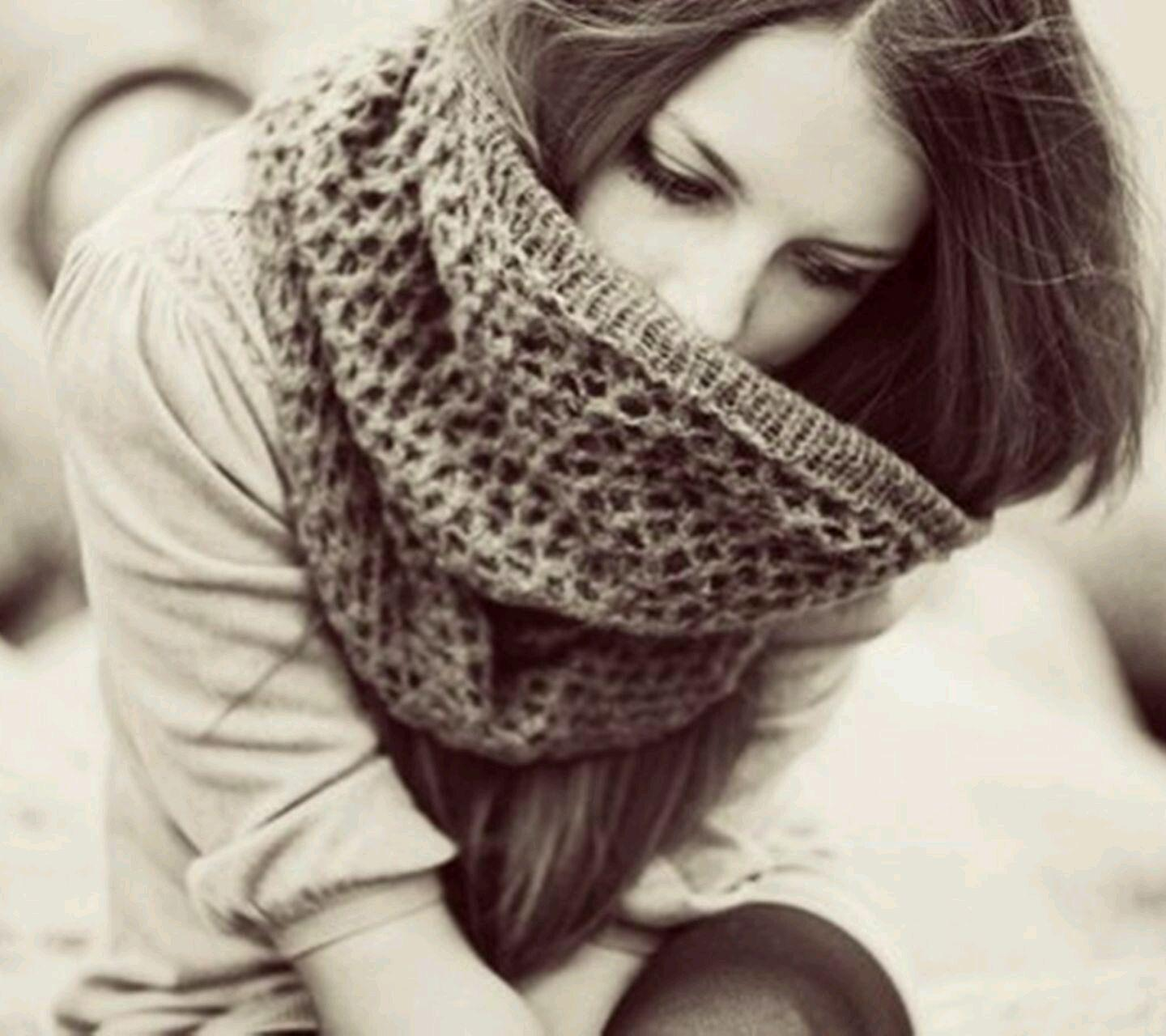WRONG: (517, 62, 913, 436)
